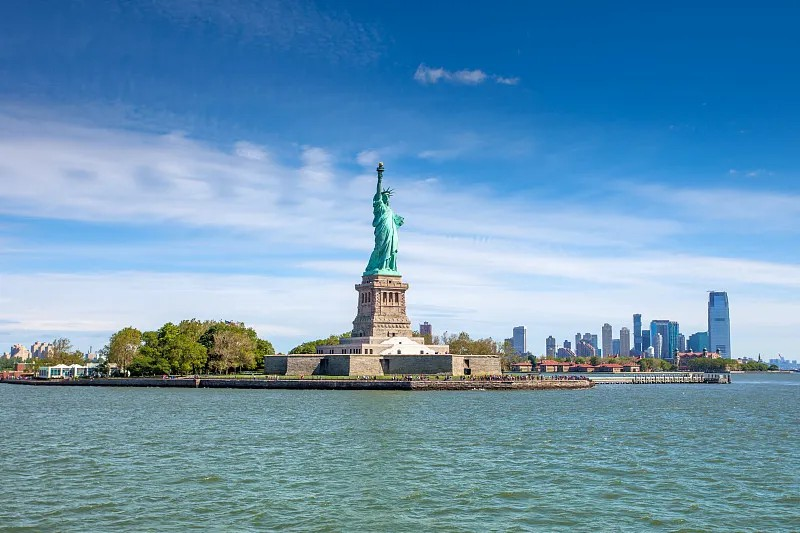SL: (351, 162, 411, 339)
